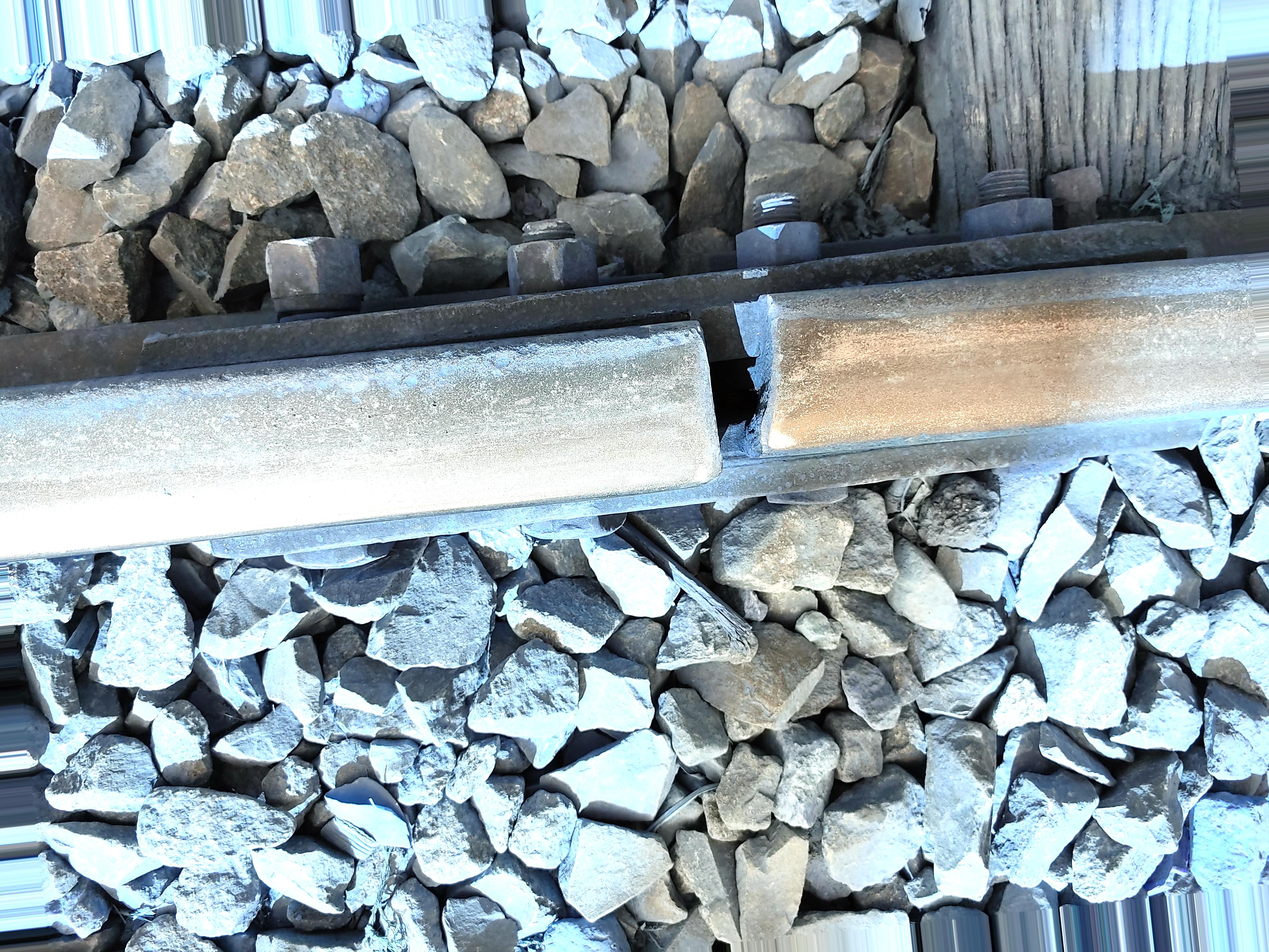tracks_fault: (641, 251, 831, 539)
